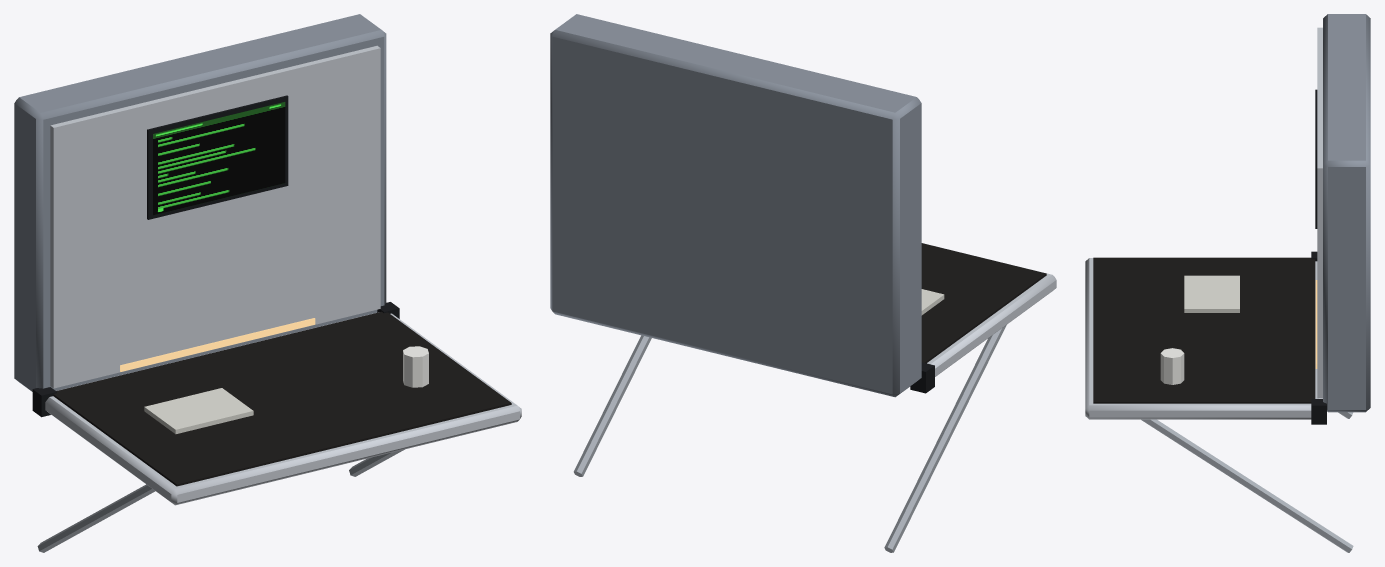
Rendered from desk_fold_down_wall_desk.glb.
The picture shows the model from 3 angles, left to right: view 1: azimuth 30°, elevation 25°; view 2: azimuth 150°, elevation 25°; view 3: azimuth 270°, elevation 25°; orthographic projection. The views are drawn at different scales.
Visible parts, largest first — view 1: desk_fold_down_wall_desk; view 2: desk_fold_down_wall_desk; view 3: desk_fold_down_wall_desk.
Part boxes in pixels (left/top/right/bottom): desk_fold_down_wall_desk: left=14, top=14, right=521, bottom=552; desk_fold_down_wall_desk: left=550, top=14, right=1056, bottom=552; desk_fold_down_wall_desk: left=1085, top=14, right=1370, bottom=552.
Size of the model in its own units: 0.92 by 1.11 by 0.72.
Materials: 9 (1 with a texture image).
